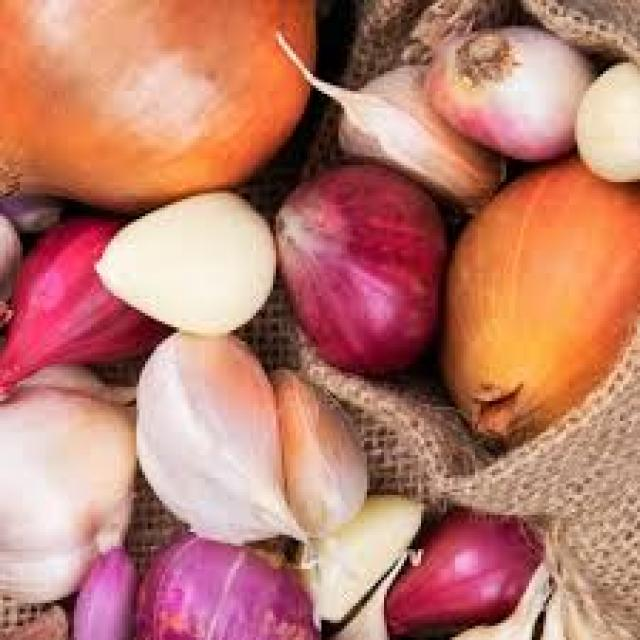Onion: (429, 142, 640, 446), (254, 177, 485, 394)
